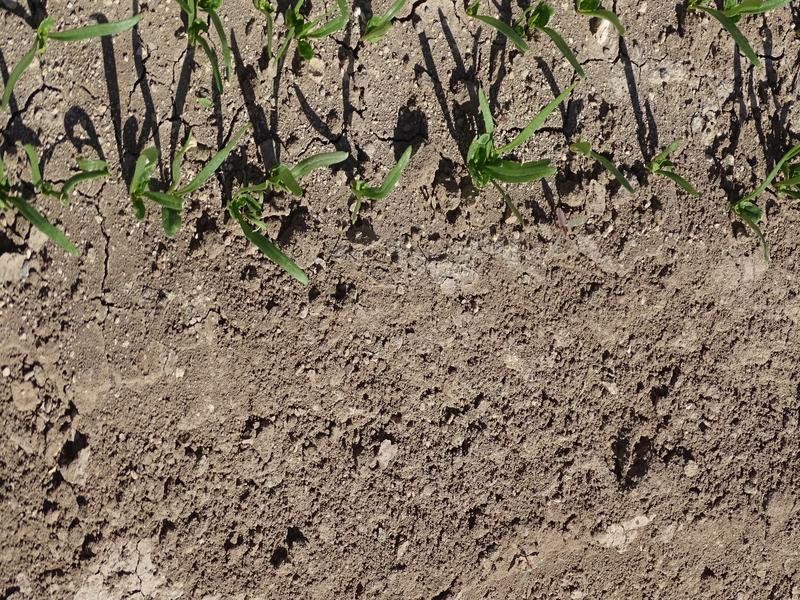Espinaca: (126, 122, 340, 285), (179, 1, 405, 66), (1, 11, 154, 103), (1, 144, 111, 258), (469, 1, 626, 77), (467, 82, 562, 187), (727, 142, 800, 252), (681, 1, 792, 72), (347, 146, 414, 220), (575, 139, 642, 193), (650, 145, 700, 201)
